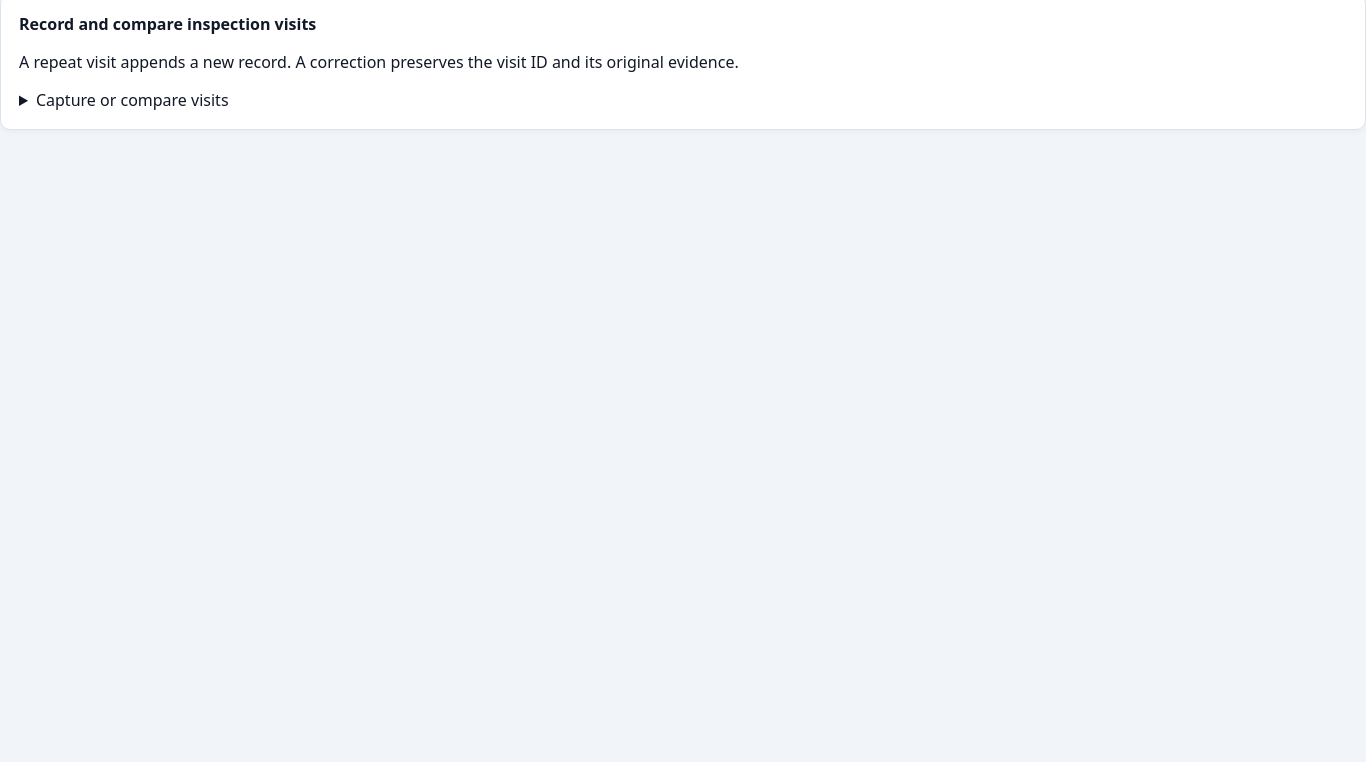
Test: loads a stable visit for an explicit immutable amendment with its expected head
The image size is (1366, 762).
Later steps or results of the test are not shown.
Click the heading "Capture or compare visits" at (132, 100), box x1=36 y1=89 x2=228 y2=111
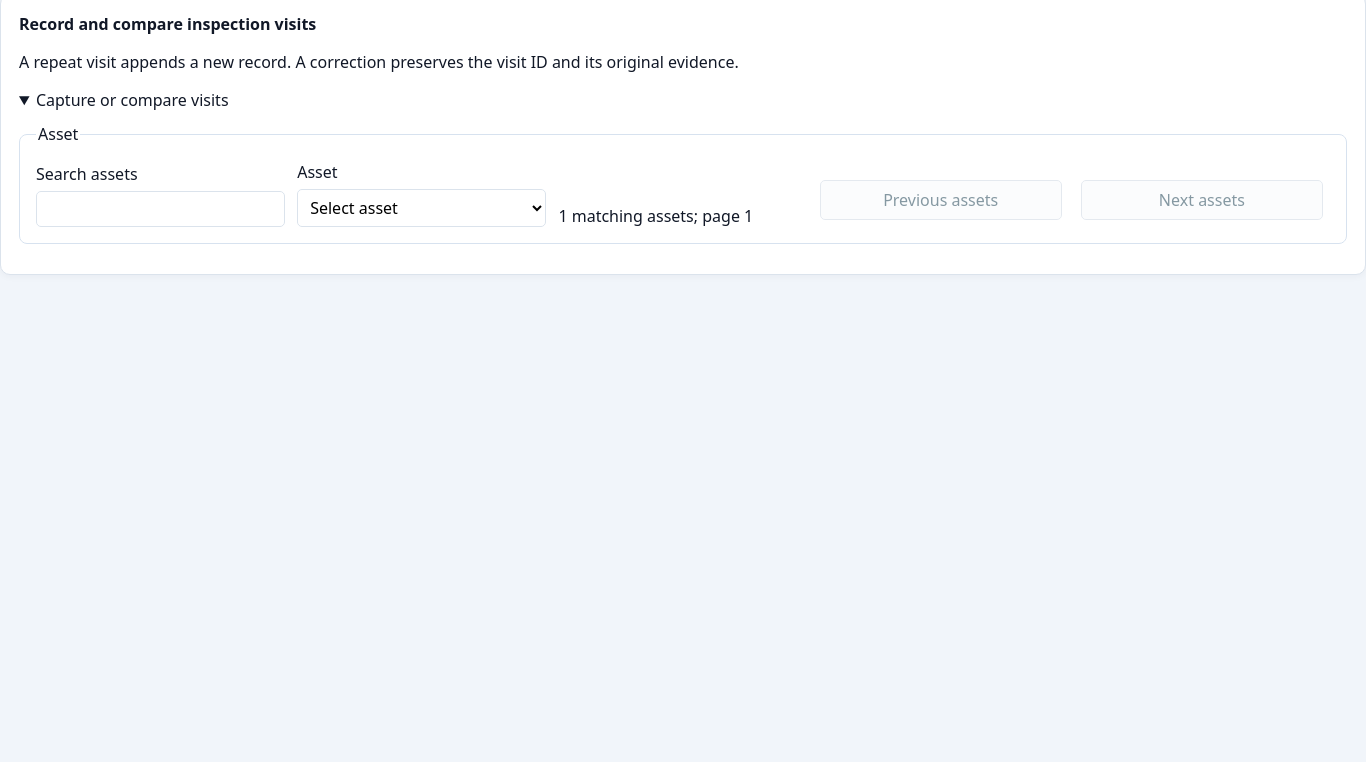
Select "FIX-1" in the dropdown named "Trend asset" at (422, 208), box x1=297 y1=189 x2=546 y2=227
(page scrolled)
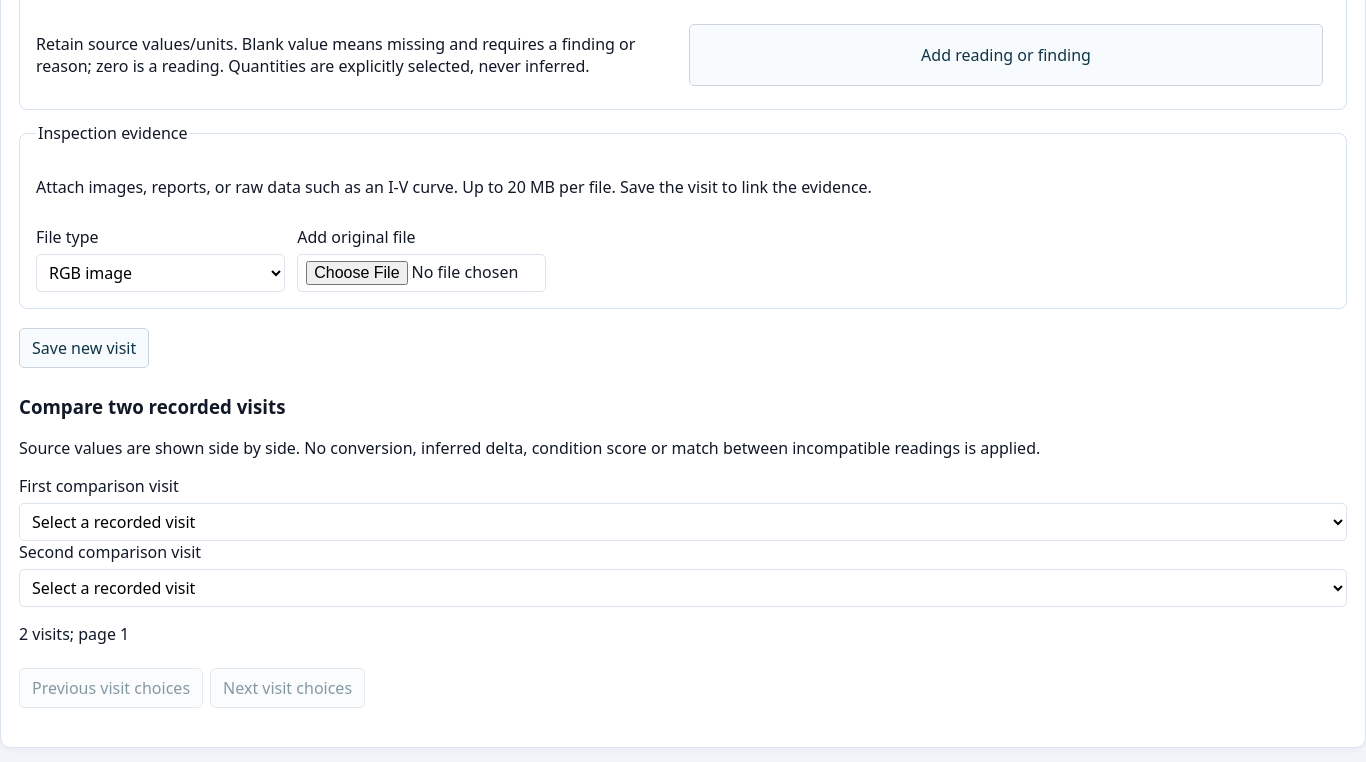
Select "2026-09-01 — Visual (visit 11)" in the dropdown labelled "First comparison visit" at (683, 522), box x1=19 y1=503 x2=1347 y2=541
(page scrolled)
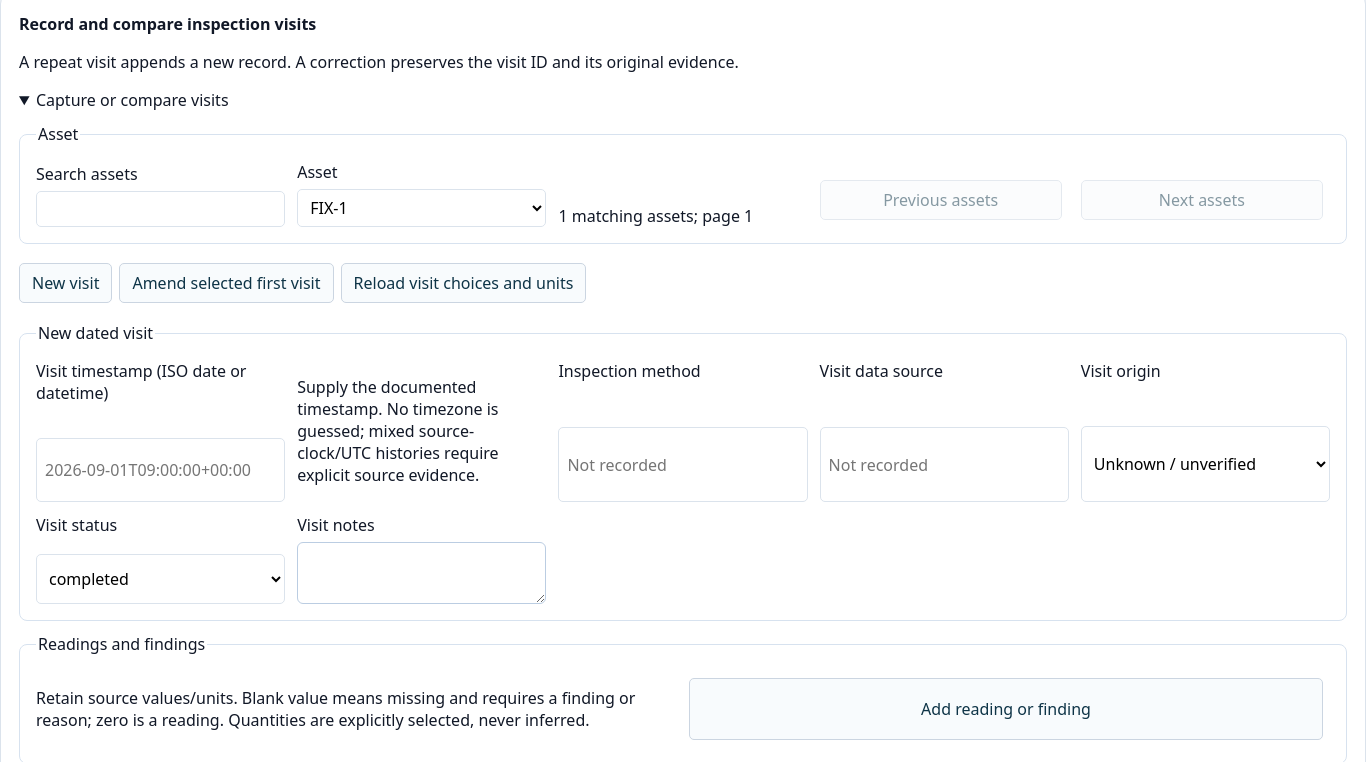
Click the button "Amend selected first visit" at (226, 283), box x1=119 y1=263 x2=334 y2=303
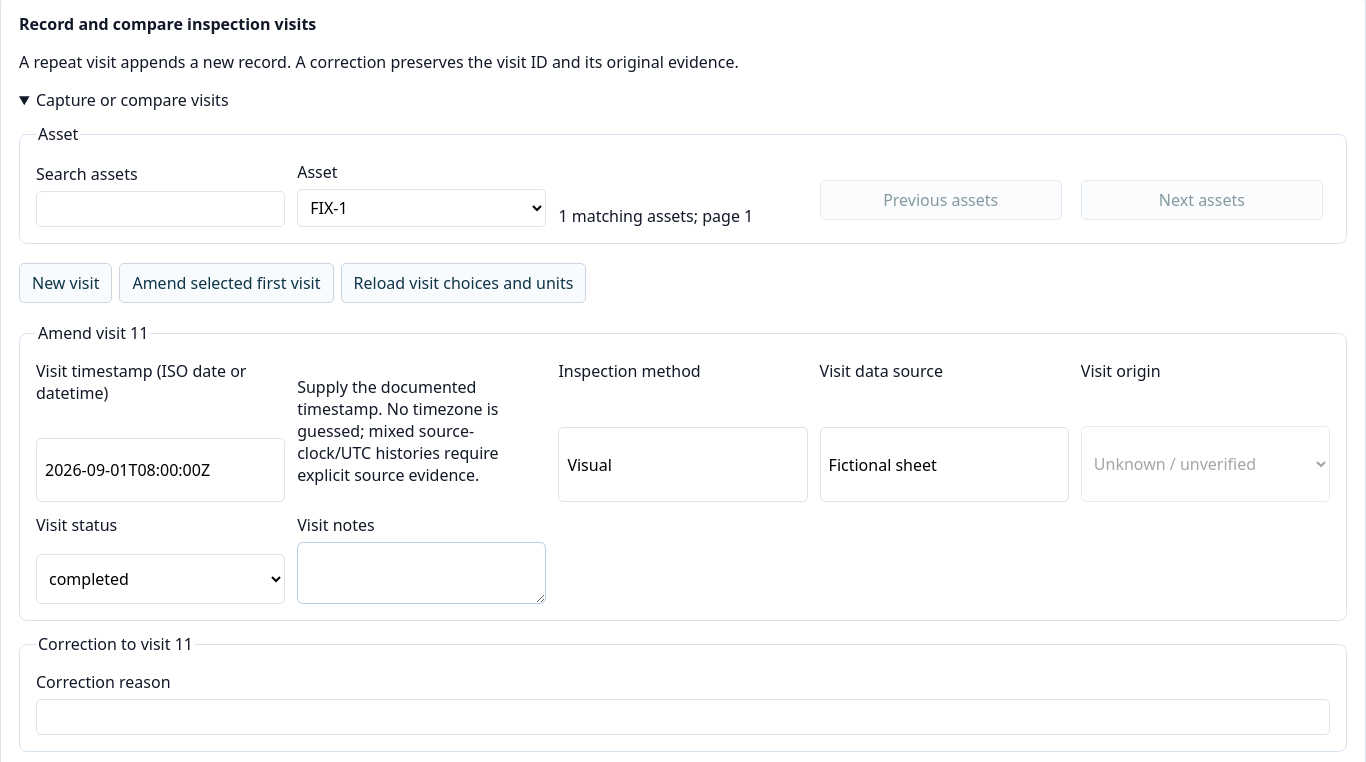
Expected: the field labelled "Correction reason" is shown, x1=36 y1=699 x2=1330 y2=735
